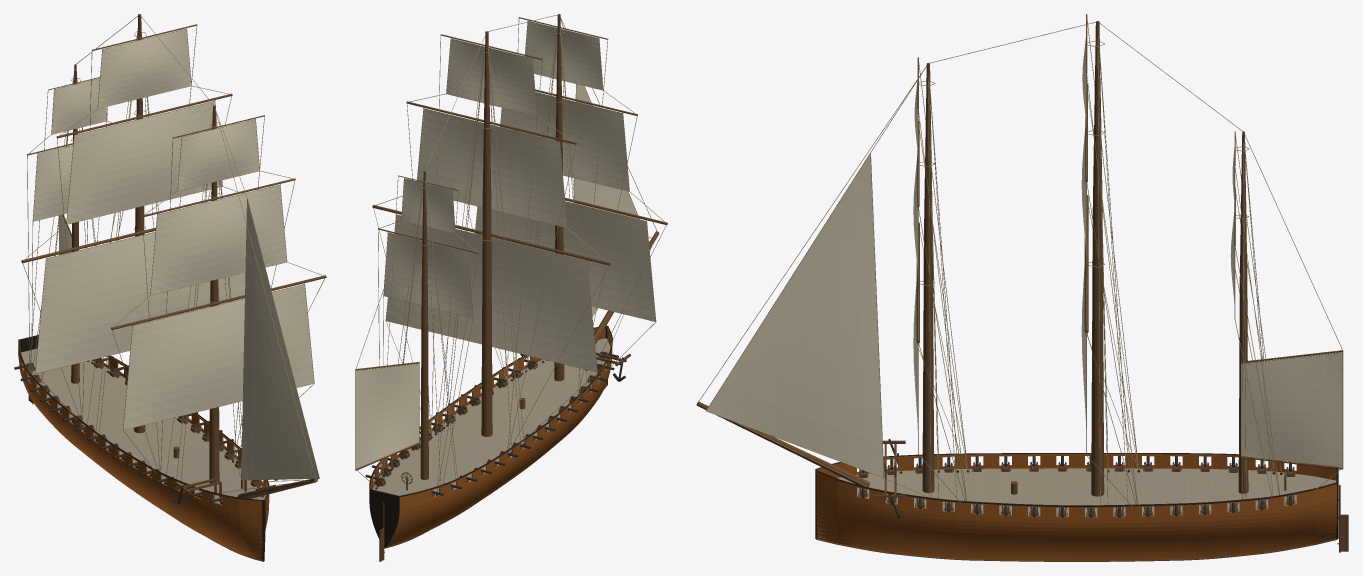
3 renders of one model, left to right at view 1: azimuth 30°, elevation 25°; view 2: azimuth 150°, elevation 25°; view 3: azimuth 270°, elevation 25°, orthographic. The views are drawn at different scales.
Parts seen in each view (by area): view 1: lod1_fore_square_00, lod1_main_square_00, lod1_jib_00, lod1_main_square_01, lod1_main_deck, lod1_fore_square_01, lod1_hull_shell_starboard, lod1_main_square_02, lod1_fore_square_02, lod1_mizzen_square_00, lod1_mizzen_square_01, lod1_fore (+10 smaller); view 2: lod1_main_square_00, lod1_main_square_01, lod1_main_deck, lod1_fore_square_00, lod1_hull_shell_starboard, lod1_fore_square_01, lod1_mizzen_gaff_02, lod1_mizzen_square_00, lod1_main_square_02, lod1_main, lod1_fore_square_02, lod1_mizzen (+12 smaller); view 3: lod1_jib_00, lod1_hull_shell_port, lod1_main_deck, lod1_mizzen_gaff_02, lod1_main, lod1_hull_shell_starboard, lod1_fore, lod1_mizzen, lod1_gunwale_port, lod1_bowsprit, lod1_keel.
Boxes of the visible parts, x1=… form: lod1_fore_square_00: x1=123, y1=284, x2=313, y2=429; lod1_main_square_00: x1=35, y1=232, x2=245, y2=372; lod1_jib_00: x1=241, y1=200, x2=319, y2=479; lod1_main_square_01: x1=67, y1=101, x2=222, y2=223; lod1_main_deck: x1=21, y1=348, x2=266, y2=504; lod1_fore_square_01: x1=151, y1=185, x2=286, y2=294; lod1_hull_shell_starboard: x1=19, y1=340, x2=262, y2=560; lod1_main_square_02: x1=98, y1=29, x2=191, y2=108; lod1_fore_square_02: x1=178, y1=119, x2=259, y2=190; lod1_mizzen_square_00: x1=33, y1=145, x2=72, y2=220; lod1_mizzen_square_01: x1=51, y1=78, x2=106, y2=133; lod1_fore: x1=209, y1=105, x2=219, y2=483; lod1_main_square_00: x1=386, y1=215, x2=597, y2=371; lod1_main_square_01: x1=417, y1=109, x2=566, y2=227; lod1_main_deck: x1=373, y1=338, x2=609, y2=496; lod1_fore_square_00: x1=475, y1=201, x2=655, y2=321; lod1_hull_shell_starboard: x1=386, y1=327, x2=612, y2=547; lod1_fore_square_01: x1=500, y1=92, x2=629, y2=190; lod1_mizzen_gaff_02: x1=356, y1=364, x2=418, y2=468; lod1_mizzen_square_00: x1=384, y1=233, x2=472, y2=317; lod1_main_square_02: x1=446, y1=39, x2=536, y2=115; lod1_main: x1=481, y1=31, x2=492, y2=436; lod1_fore_square_02: x1=525, y1=21, x2=602, y2=89; lod1_mizzen: x1=420, y1=171, x2=428, y2=479; lod1_jib_00: x1=707, y1=154, x2=883, y2=477; lod1_hull_shell_port: x1=816, y1=471, x2=1336, y2=560; lod1_main_deck: x1=837, y1=468, x2=1336, y2=516; lod1_mizzen_gaff_02: x1=1241, y1=352, x2=1342, y2=466; lod1_main: x1=1091, y1=21, x2=1104, y2=496; lod1_hull_shell_starboard: x1=817, y1=454, x2=1336, y2=480; lod1_fore: x1=922, y1=62, x2=934, y2=493; lod1_mizzen: x1=1238, y1=131, x2=1248, y2=493; lod1_gunwale_port: x1=816, y1=470, x2=1337, y2=506; lod1_bowsprit: x1=696, y1=401, x2=870, y2=487; lod1_keel: x1=816, y1=538, x2=1337, y2=561.
Size of the model in its own units: 25.92 by 48.07 by 52.57.
7 materials, 7 textured.
